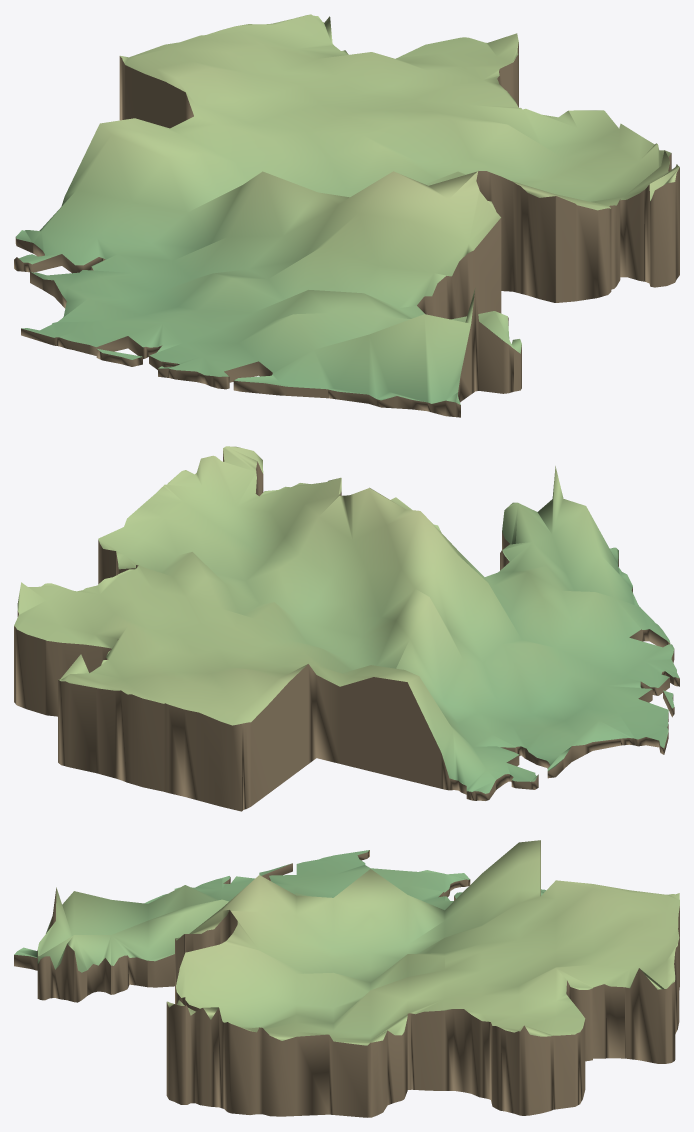
File: GAB.glb
The picture shows the model from 3 angles, top to bottom: view 1: azimuth 30°, elevation 25°; view 2: azimuth 150°, elevation 25°; view 3: azimuth 270°, elevation 25°; orthographic projection. The views are drawn at different scales.
Visible parts, largest first — view 1: GAB; view 2: GAB; view 3: GAB.
Part boxes in pixels (<box>): GAB: <box>14,14,679,417</box>; GAB: <box>14,446,679,811</box>; GAB: <box>14,840,679,1117</box>.
Size of the model in its own units: 1.57 by 0.338 by 1.68.
